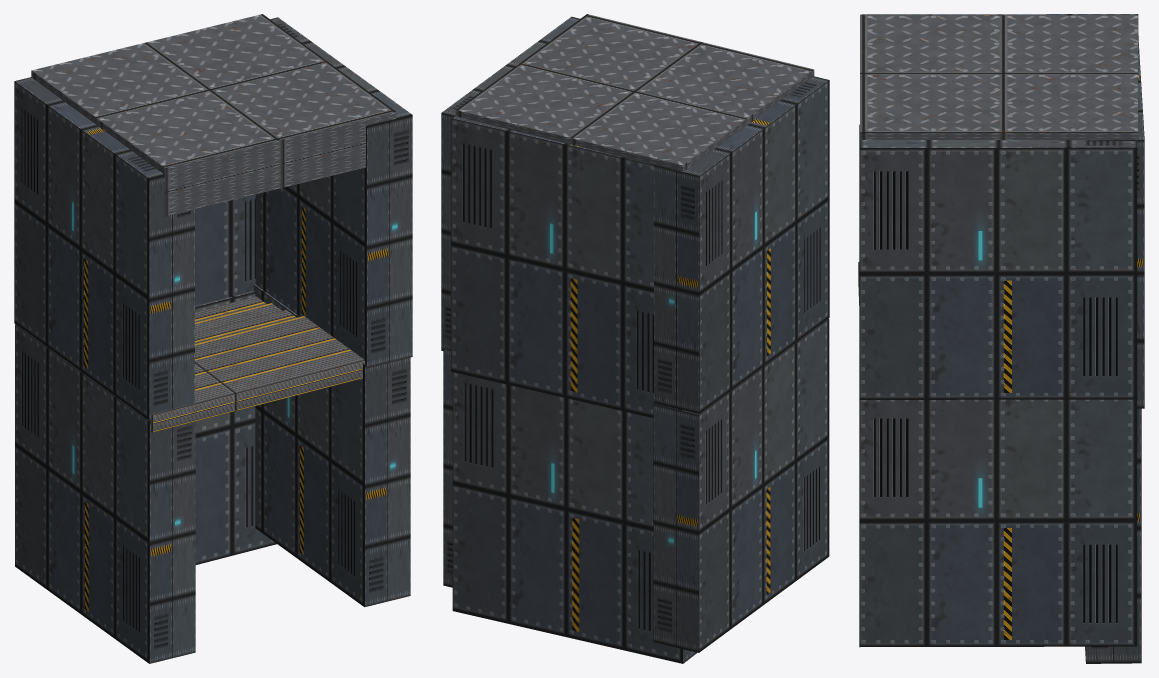
File: Stairs.gltf
3 renders of one model, left to right at view 1: azimuth 30°, elevation 25°; view 2: azimuth 150°, elevation 25°; view 3: azimuth 270°, elevation 25°, orthographic. The views are drawn at different scales.
Visible parts, largest first — view 1: 立方体.001, 立方体.005, 立方体, 立方体.004, 立方体.002, pedestal, 立方体.007, 立方体.003; view 2: 立方体.003, 立方体.007, 立方体.001, 立方体.005, 立方体, 立方体.002, 立方体.004; view 3: 立方体.002, 立方体.004, 立方体, 立方体.003, 立方体.007, 立方体.001.
Part boxes in pixels (x1,y1,x2,y2): 立方体.001: (14, 77, 194, 420); 立方体.005: (15, 324, 195, 663); 立方体: (31, 14, 396, 216); 立方体.004: (253, 284, 410, 607); 立方体.002: (255, 17, 412, 368); pedestal: (150, 296, 364, 432); 立方体.007: (195, 291, 276, 564); 立方体.003: (195, 194, 255, 305); 立方体.003: (451, 115, 681, 417); 立方体.007: (452, 372, 696, 663); 立方体.001: (654, 76, 829, 413); 立方体.005: (653, 319, 829, 652); 立方体: (455, 14, 814, 171); 立方体.002: (441, 16, 579, 350); 立方体.004: (443, 347, 452, 587); 立方体.002: (859, 124, 1137, 399); 立方体.004: (859, 399, 1137, 647); 立方体: (860, 15, 1137, 139); 立方体.003: (1089, 32, 1144, 408); 立方体.007: (1085, 408, 1141, 663); 立方体.001: (860, 14, 1138, 37).
Size of the model in its own units: 11.42 by 21.03 by 10.31.
